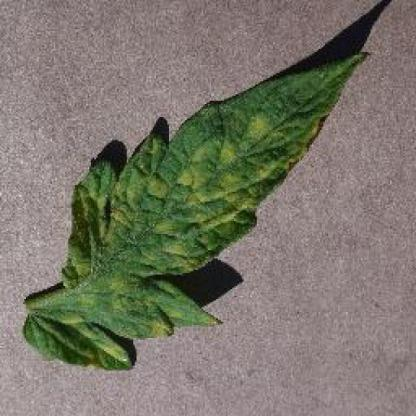Tomato_Leaf_Mold: (29, 52, 368, 370)
